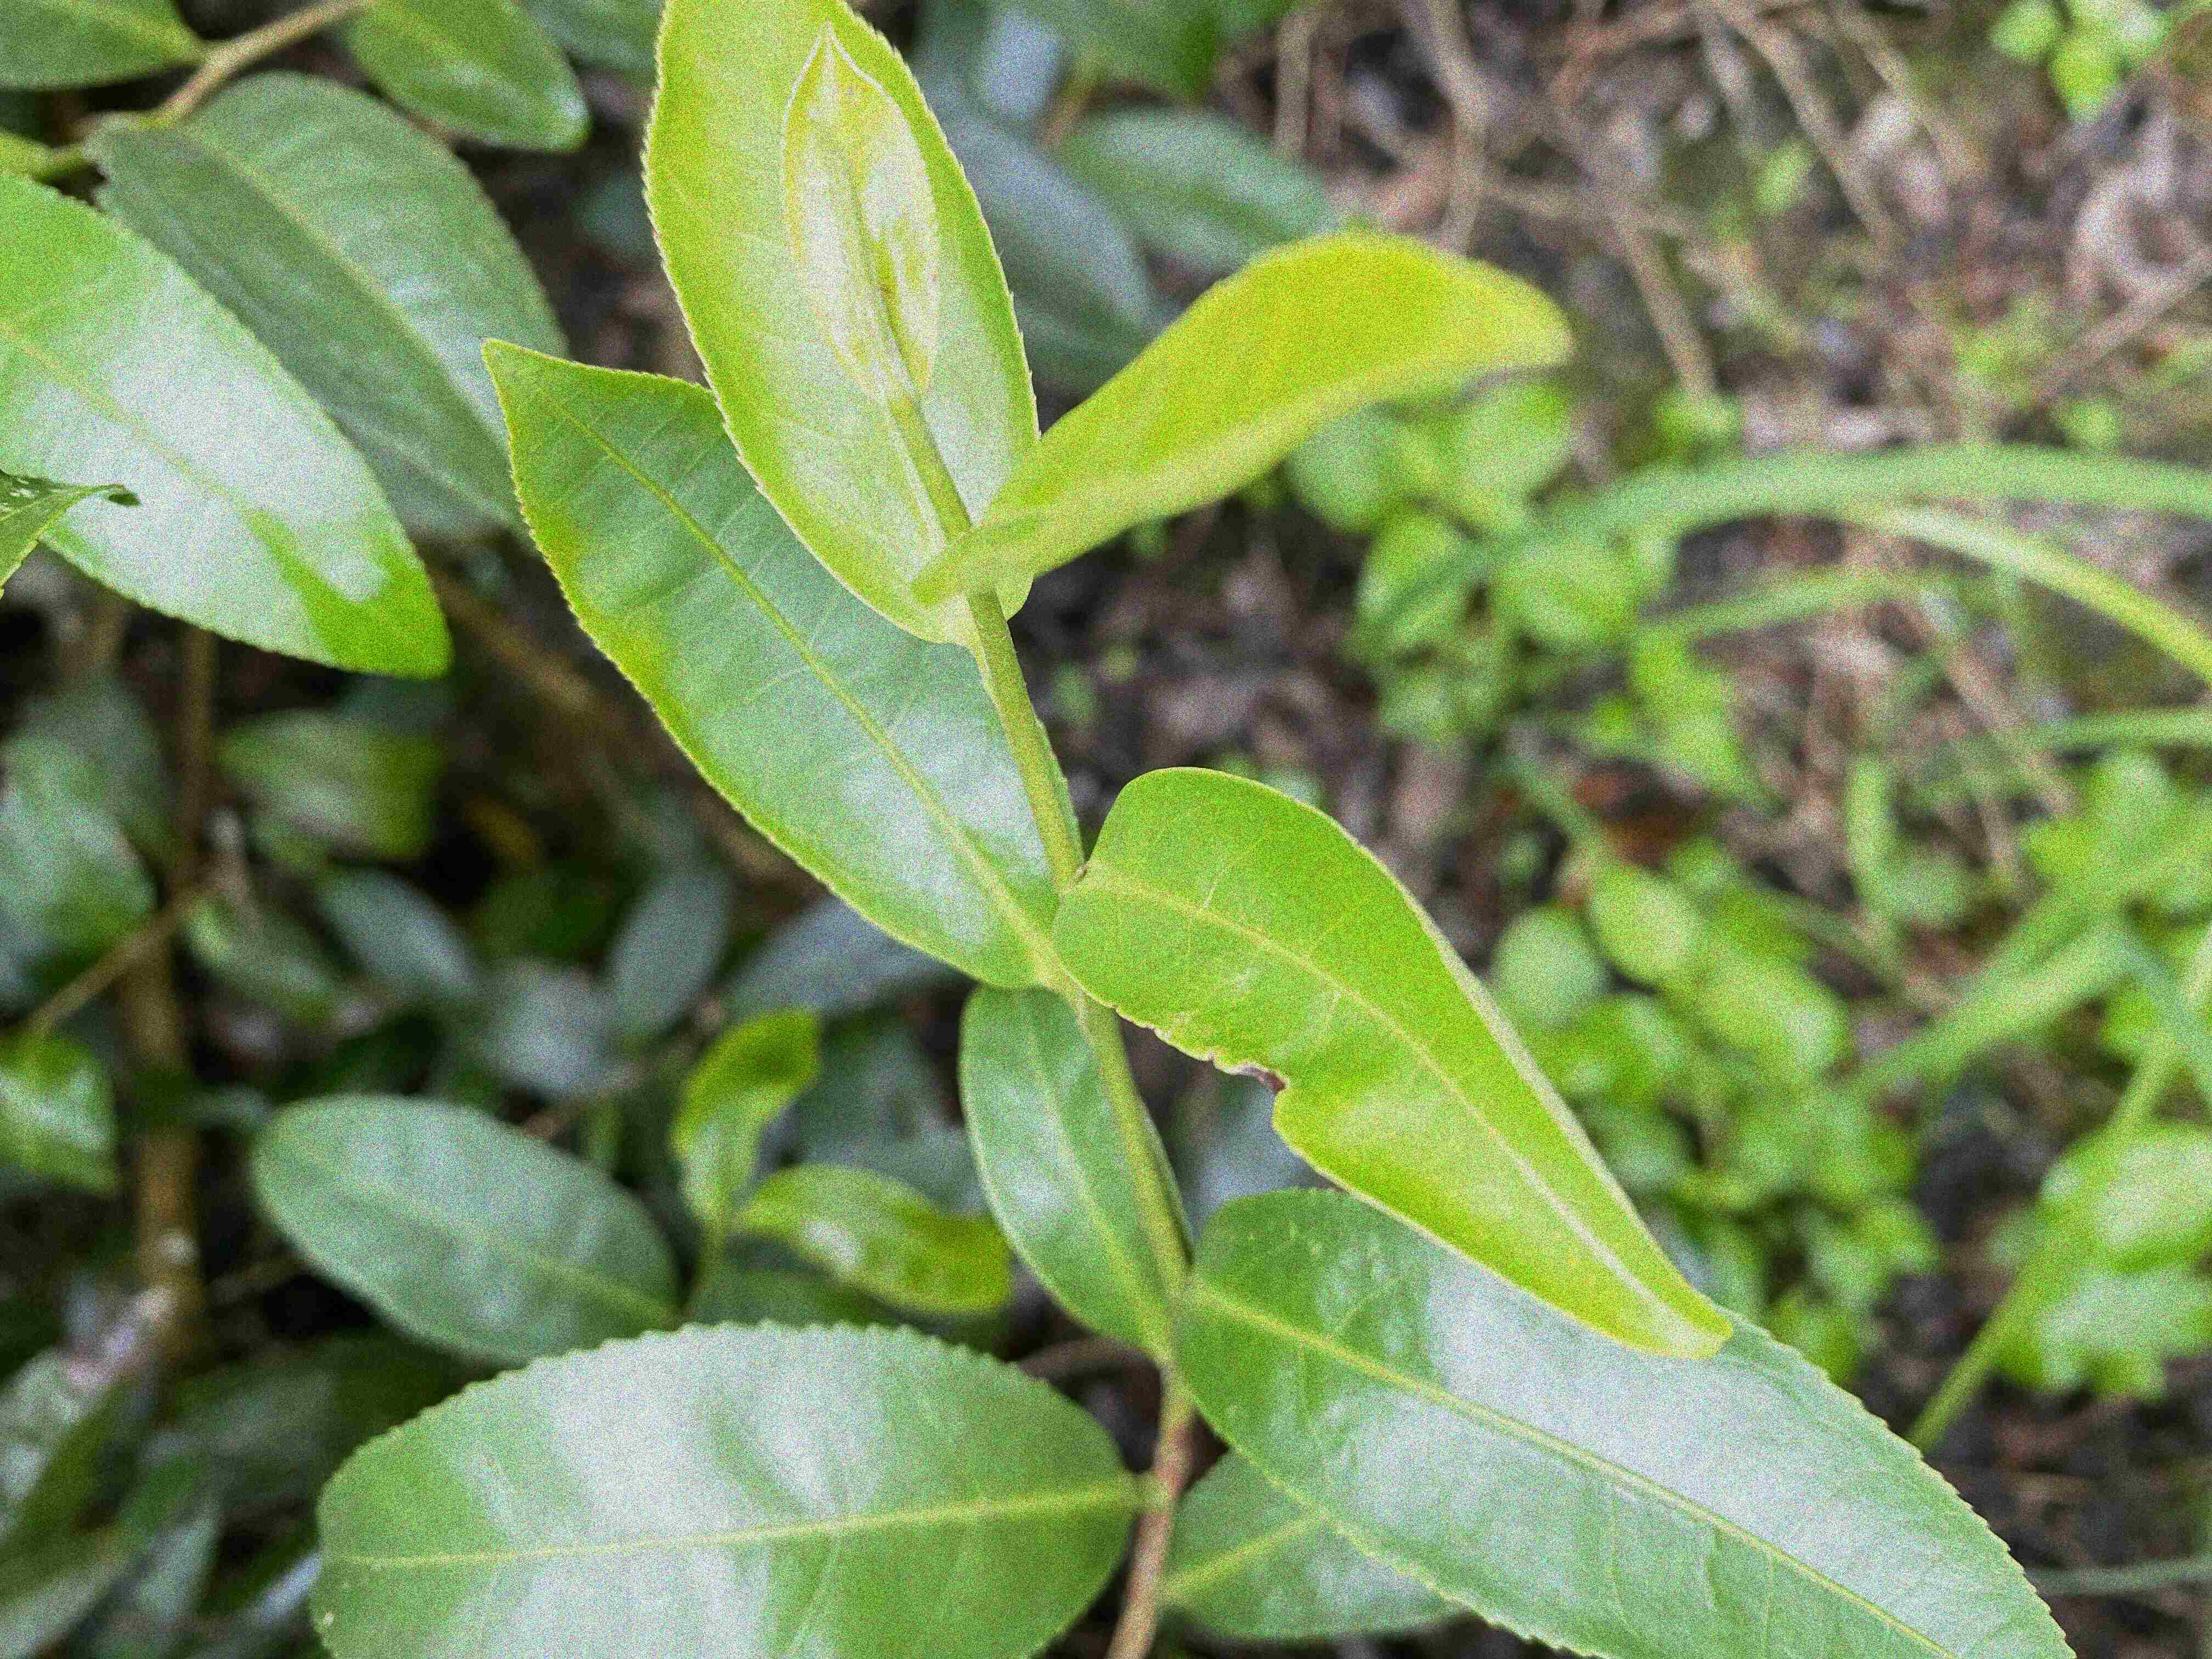healthy: (1177, 1180, 2087, 1656), (481, 336, 1083, 990), (310, 1321, 1139, 1657), (636, 0, 1043, 645), (909, 235, 1576, 608)
tanju_low: (1052, 765, 1733, 1363), (779, 23, 939, 397)
